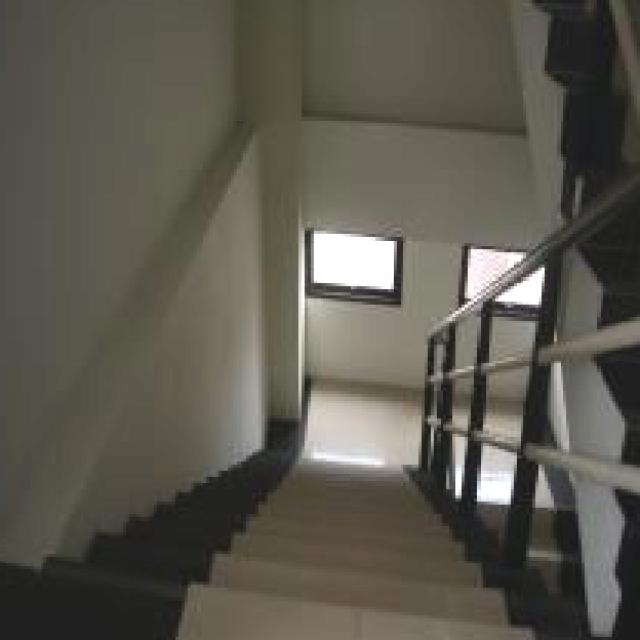downstair: (164, 447, 450, 640)
